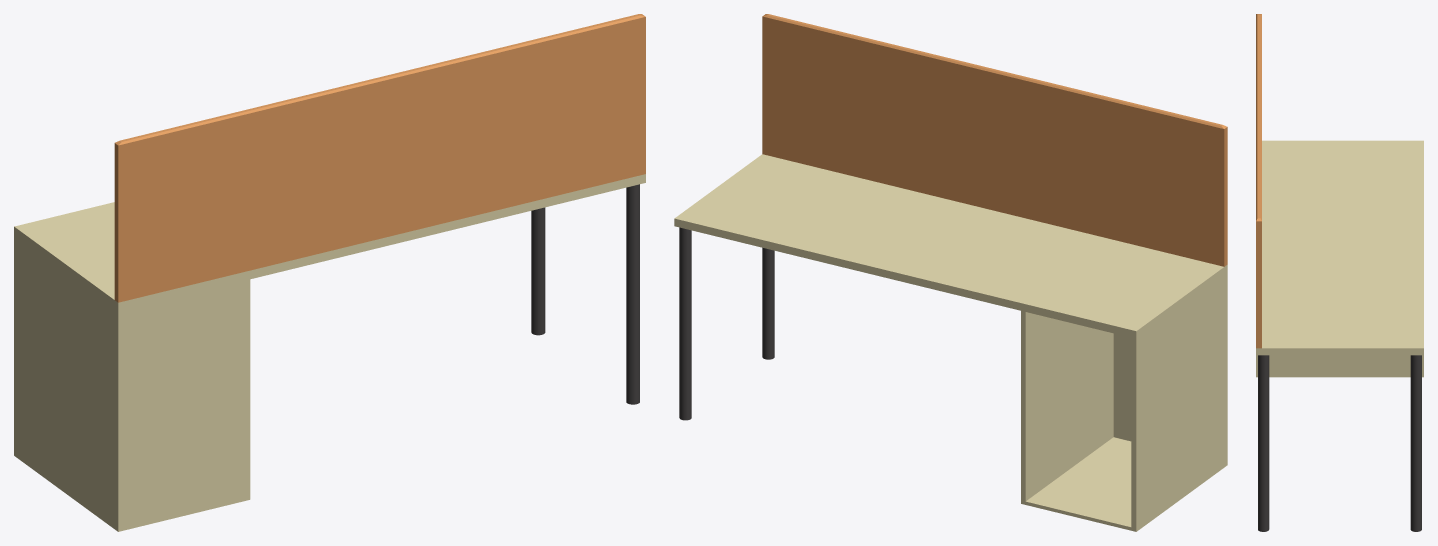
File: Desk.fbx
3 renders of one model, left to right at view 1: azimuth 30°, elevation 25°; view 2: azimuth 150°, elevation 25°; view 3: azimuth 270°, elevation 25°, orthographic. The views are drawn at different scales.
Parts seen in each view (by area): view 1: Cube.002, Cube, Cube.001; view 2: Cube, Cube.002, Cube.001; view 3: Cube, Cube.001, Cube.002.
Part boxes in pixels (x1=…): Cube.002: x1=114, y1=14, x2=645, y2=302; Cube: x1=14, y1=174, x2=645, y2=531; Cube.001: x1=531, y1=184, x2=639, y2=404; Cube: x1=674, y1=154, x2=1227, y2=531; Cube.002: x1=762, y1=14, x2=1227, y2=266; Cube.001: x1=679, y1=227, x2=774, y2=420; Cube: x1=1256, y1=140, x2=1423, y2=377; Cube.001: x1=1258, y1=355, x2=1421, y2=531; Cube.002: x1=1256, y1=14, x2=1261, y2=348.
Bounding box in the file's own units: 801 × 563 × 274.
